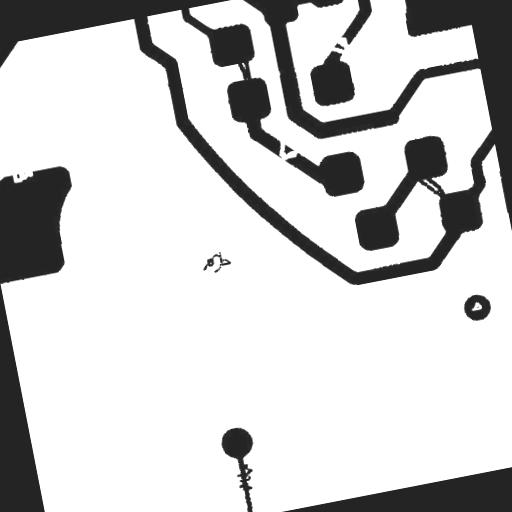copper: (191, 241, 241, 284)
mousebite: (2, 155, 42, 192)
open: (264, 126, 308, 176), (312, 26, 363, 68)
pin-hole: (462, 292, 490, 320)
short: (402, 160, 460, 218), (228, 46, 263, 95)
spur: (226, 454, 264, 500)
